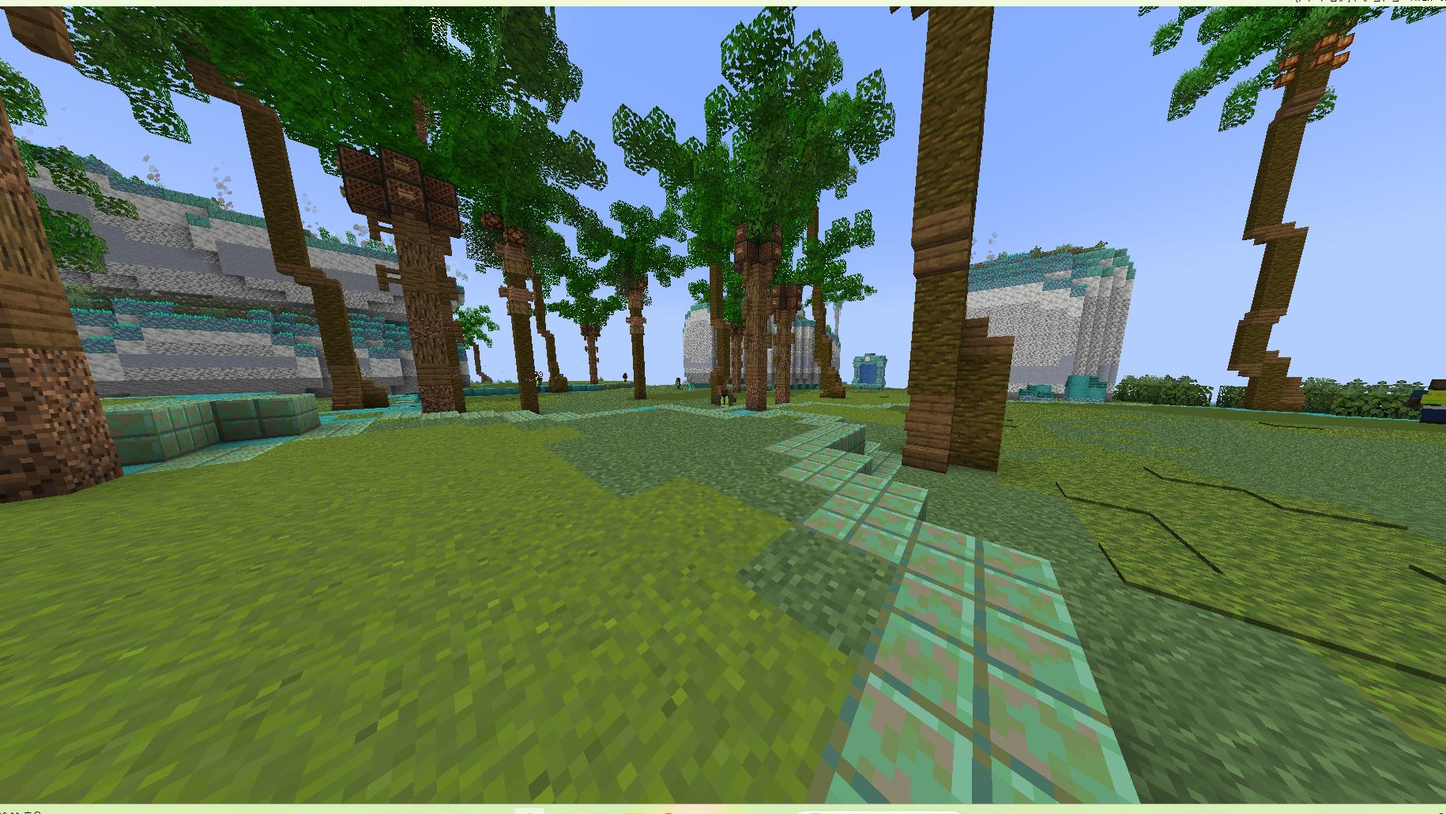Guardian: (713, 383, 735, 413)
